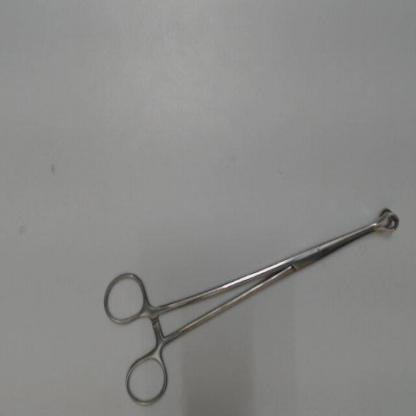8 Babcock Tissue Forceps: (100, 198, 406, 412)
